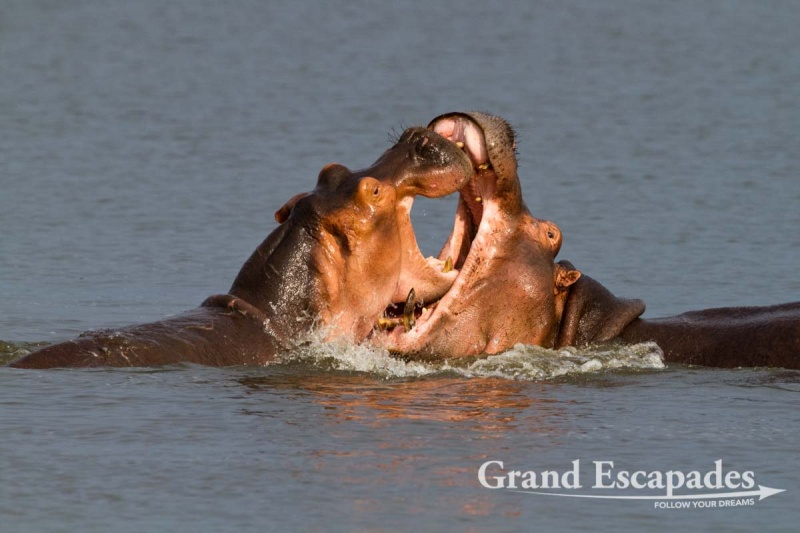hipopotamo: (18, 128, 470, 379), (443, 98, 793, 380)
